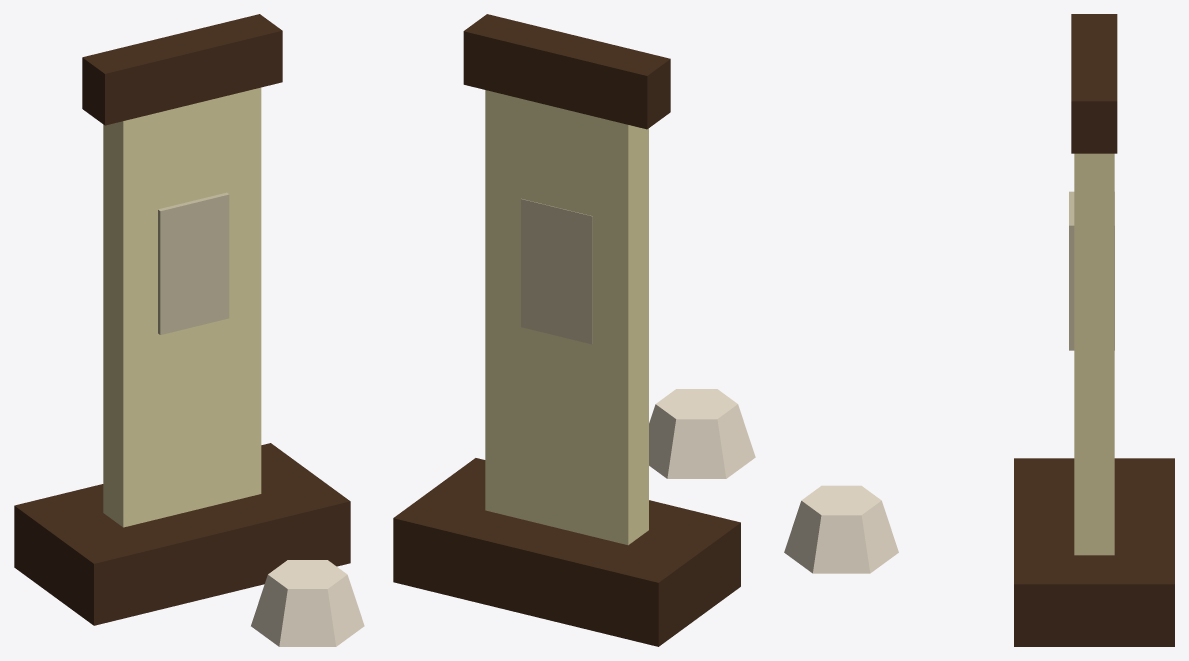
The model's file is sanseong_wipae.glb.
The picture shows the model from 3 angles, left to right: view 1: azimuth 30°, elevation 25°; view 2: azimuth 150°, elevation 25°; view 3: azimuth 270°, elevation 25°; orthographic projection. The views are drawn at different scales.
Visible parts, largest first — view 1: sanseong_wipae; view 2: sanseong_wipae; view 3: sanseong_wipae.
Boxes of the visible parts, x1=… form: sanseong_wipae: x1=14, y1=14, x2=364, y2=646; sanseong_wipae: x1=393, y1=14, x2=755, y2=646; sanseong_wipae: x1=784, y1=14, x2=1174, y2=646.
Bounding box in the file's own units: 0.26 × 0.505 × 0.34.
